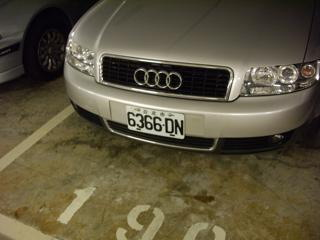plate: (124, 104, 187, 141)
